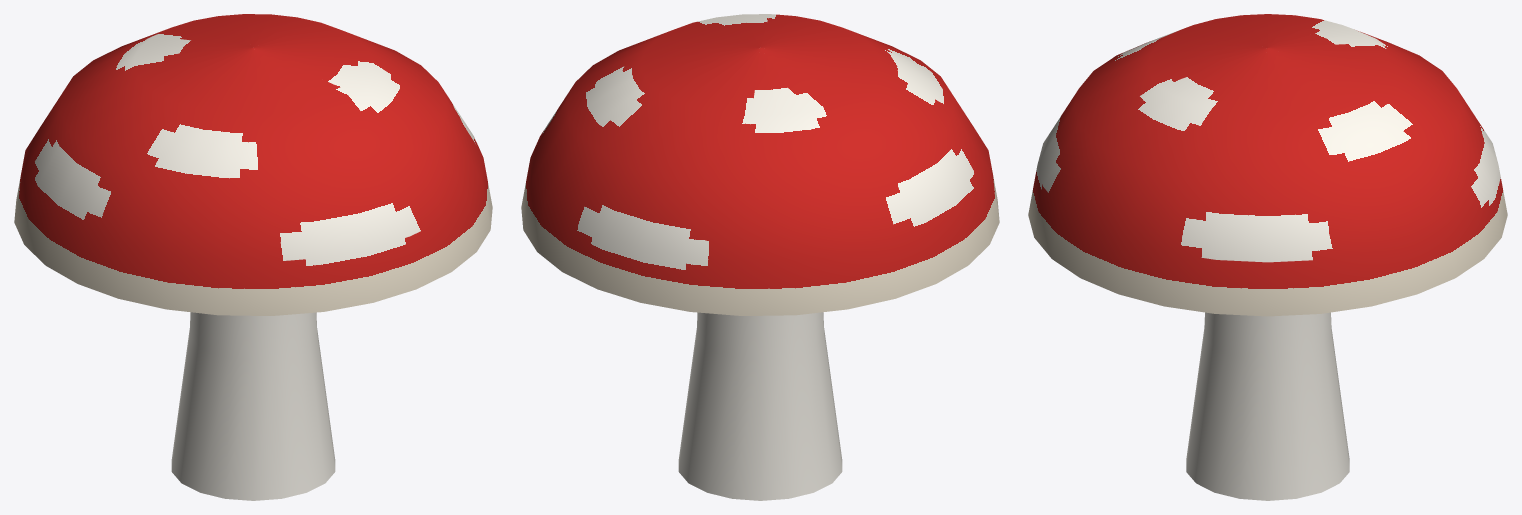
The model's file is toadstool.glb.
The picture shows the model from 3 angles, left to right: view 1: azimuth 30°, elevation 25°; view 2: azimuth 150°, elevation 25°; view 3: azimuth 270°, elevation 25°; orthographic projection.
Parts seen in each view (by area): view 1: Cap, Stem; view 2: Cap, Stem; view 3: Cap, Stem.
Part boxes in pixels (<box>): Cap: <box>14,14,492,315</box>; Stem: <box>171,312,335,500</box>; Cap: <box>521,14,999,315</box>; Stem: <box>678,312,842,500</box>; Cap: <box>1028,14,1507,316</box>; Stem: <box>1186,312,1349,500</box>.
Bounding box in the file's own units: 2.6 × 2.5 × 2.6.
2 materials, 1 textured.
